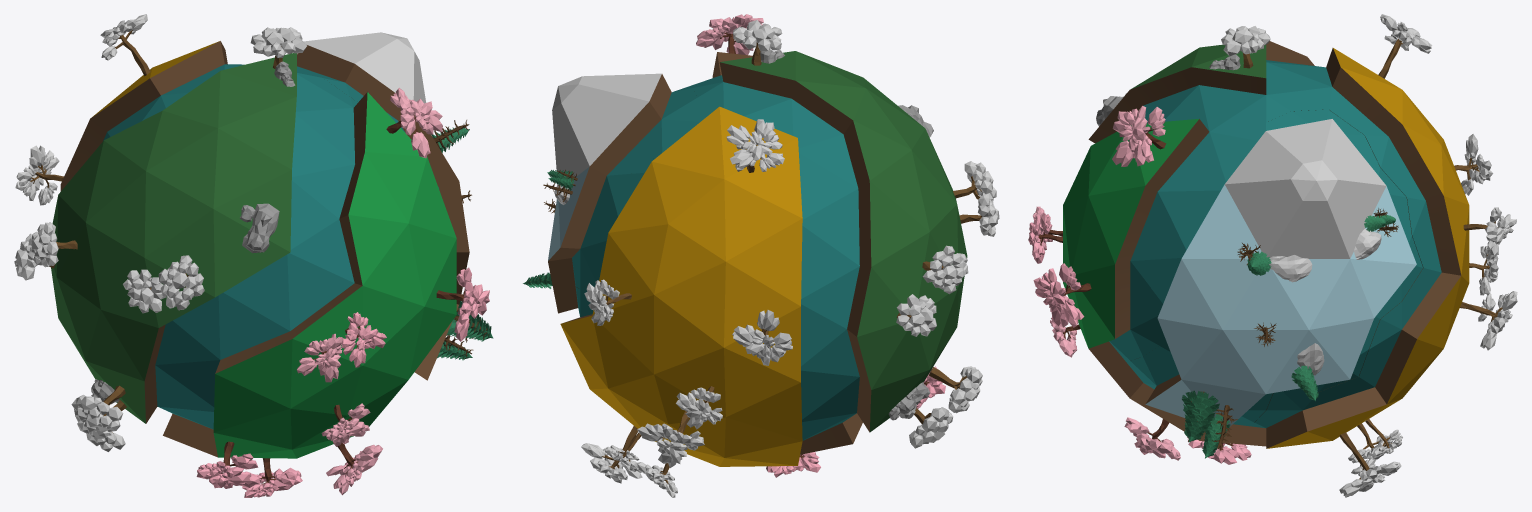
The model's file is SM_planet_UI.fbx.
3 renders of one model, left to right at view 1: azimuth 30°, elevation 25°; view 2: azimuth 150°, elevation 25°; view 3: azimuth 270°, elevation 25°, orthographic. The views are drawn at different scales.
Parts seen in each view (by area): view 1: SM_summer_UI, SM_spring_UI, SM_winter_UI, SM_autumn_UI; view 2: SM_autumn_UI, SM_summer_UI, SM_winter_UI, SM_spring_UI; view 3: SM_winter_UI, SM_autumn_UI, SM_spring_UI, SM_summer_UI.
Part boxes in pixels (x1=…): SM_summer_UI: x1=14, y1=27, x2=331, y2=451; SM_spring_UI: x1=163, y1=78, x2=489, y2=497; SM_winter_UI: x1=297, y1=32, x2=493, y2=380; SM_autumn_UI: x1=15, y1=14, x2=244, y2=406; SM_autumn_UI: x1=560, y1=98, x2=839, y2=497; SM_summer_UI: x1=693, y1=20, x2=999, y2=448; SM_winter_UI: x1=523, y1=73, x2=698, y2=313; SM_spring_UI: x1=694, y1=14, x2=945, y2=477; SM_winter_UI: x1=1130, y1=109, x2=1422, y2=458; SM_autumn_UI: x1=1234, y1=14, x2=1517, y2=497; SM_spring_UI: x1=1028, y1=106, x2=1266, y2=464; SM_summer_UI: x1=1088, y1=26, x2=1314, y2=143.
Size of the model in its own units: 100 by 102 by 101.
